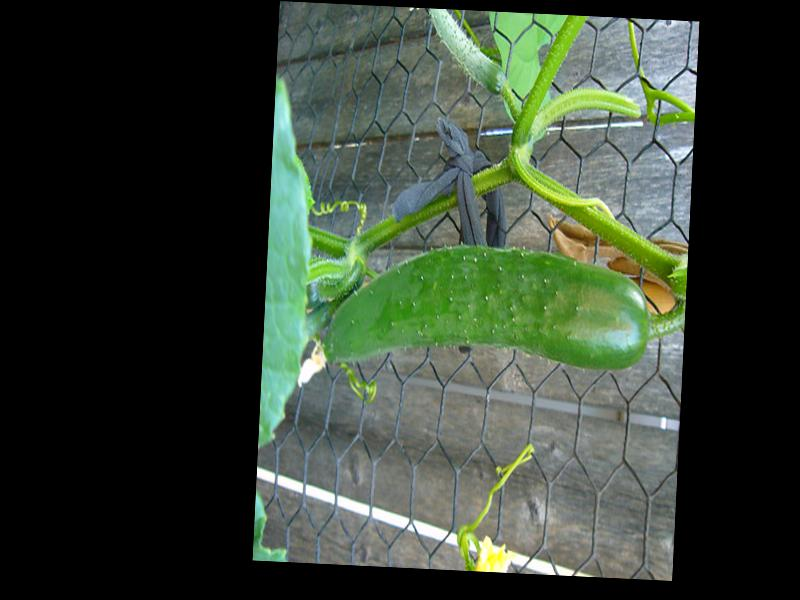Cucumber: (324, 236, 652, 378)
